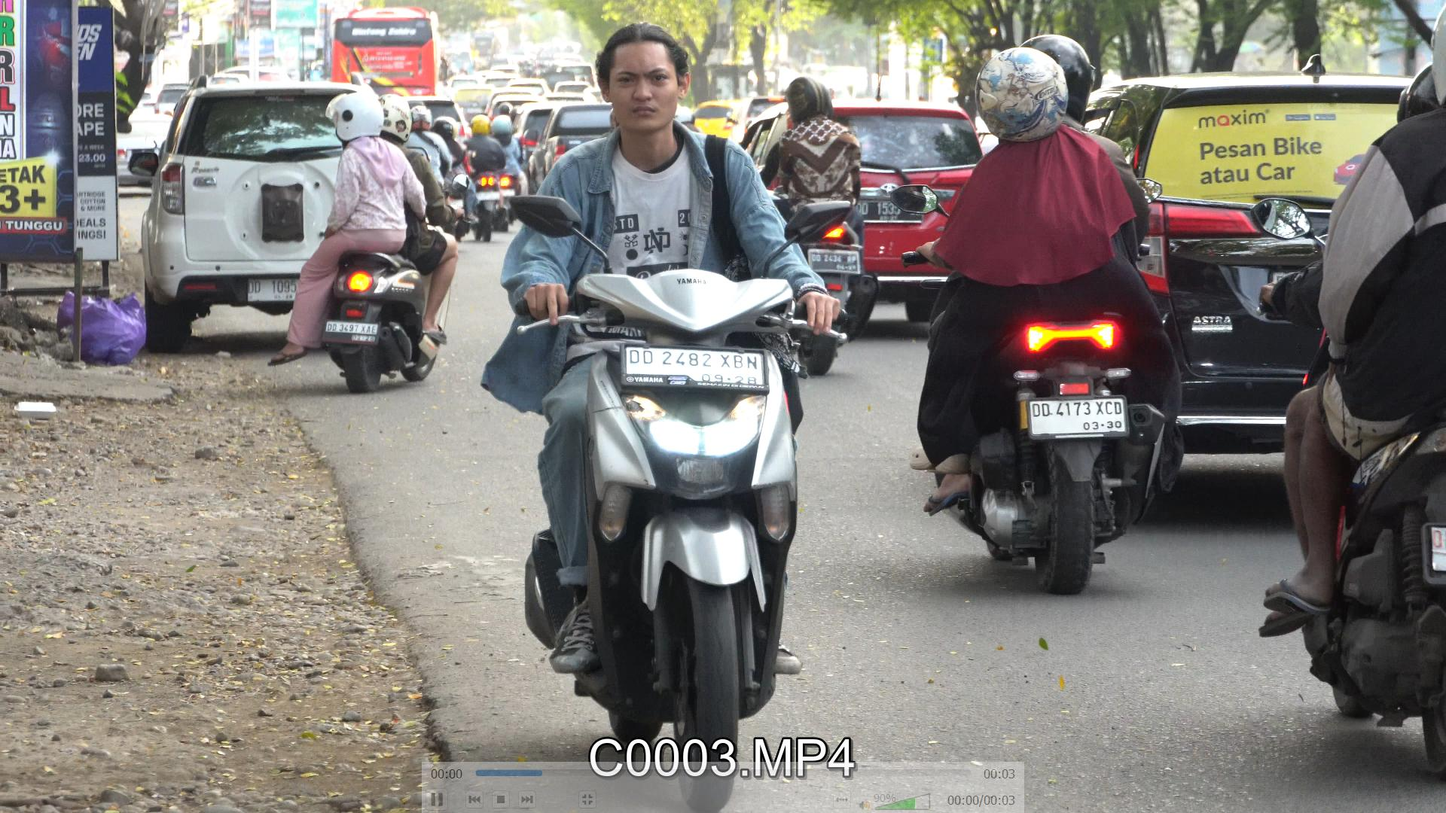number-plate: (615, 345, 770, 397)
